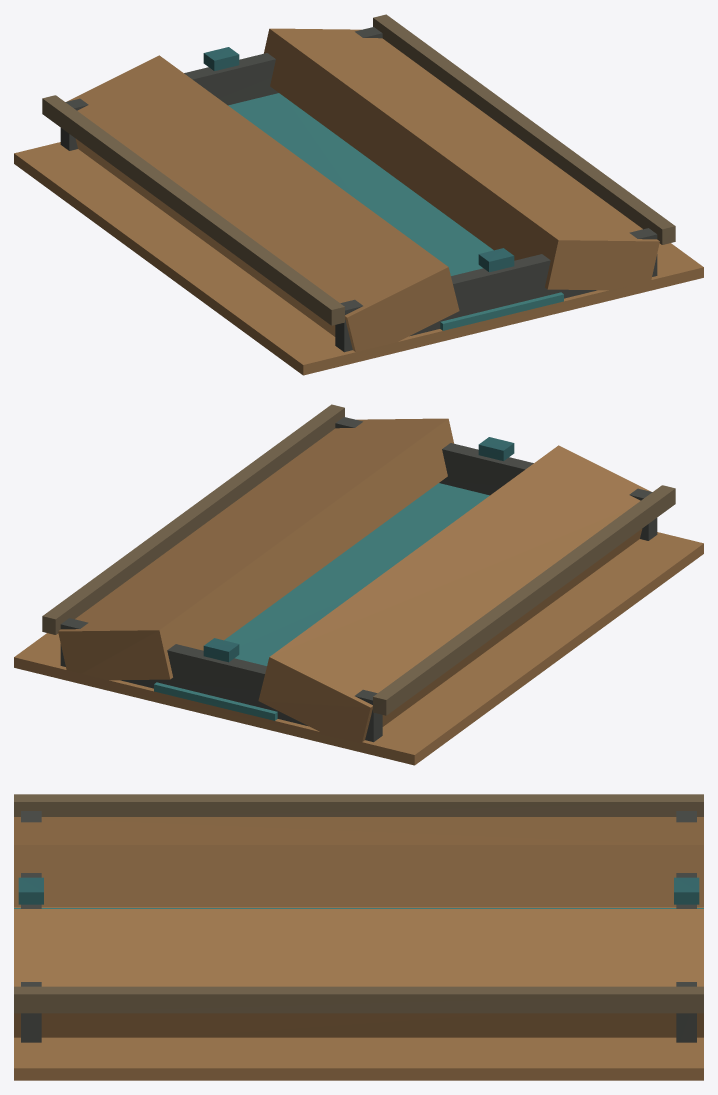
File: Drainage-ditch.glb
3 renders of one model, top to bottom at view 1: azimuth 30°, elevation 25°; view 2: azimuth 150°, elevation 25°; view 3: azimuth 270°, elevation 25°, orthographic. The views are drawn at different scales.
Parts seen in each view (by area): view 1: drainage-ditch-static-ditch-earth, drainage-ditch-static-ditch-rim, drainage-ditch-static-ditch-water, drainage-ditch-static-ditch-stone, drainage-ditch-static-ditch-marker; view 2: drainage-ditch-static-ditch-earth, drainage-ditch-static-ditch-rim, drainage-ditch-static-ditch-water, drainage-ditch-static-ditch-stone, drainage-ditch-static-ditch-marker; view 3: drainage-ditch-static-ditch-earth, drainage-ditch-static-ditch-rim, drainage-ditch-static-ditch-stone, drainage-ditch-static-ditch-marker, drainage-ditch-static-ditch-water.
Boxes of the visible parts, left/top/right/bottom form: drainage-ditch-static-ditch-earth: left=14, top=28, right=703, bottom=375; drainage-ditch-static-ditch-rim: left=42, top=14, right=675, bottom=325; drainage-ditch-static-ditch-water: left=228, top=93, right=563, bottom=330; drainage-ditch-static-ditch-stone: left=60, top=27, right=657, bottom=352; drainage-ditch-static-ditch-marker: left=203, top=47, right=514, bottom=272; drainage-ditch-static-ditch-earth: left=14, top=418, right=703, bottom=765; drainage-ditch-static-ditch-rim: left=42, top=404, right=675, bottom=715; drainage-ditch-static-ditch-water: left=154, top=483, right=489, bottom=720; drainage-ditch-static-ditch-stone: left=60, top=417, right=657, bottom=742; drainage-ditch-static-ditch-marker: left=203, top=437, right=514, bottom=662; drainage-ditch-static-ditch-earth: left=14, top=817, right=703, bottom=1080; drainage-ditch-static-ditch-rim: left=14, top=794, right=703, bottom=1013; drainage-ditch-static-ditch-stone: left=21, top=811, right=696, bottom=1042; drainage-ditch-static-ditch-marker: left=18, top=877, right=699, bottom=904; drainage-ditch-static-ditch-water: left=14, top=908, right=703, bottom=908.
Bounding box in the file's own units: 4.8 × 0.8357 × 6.
